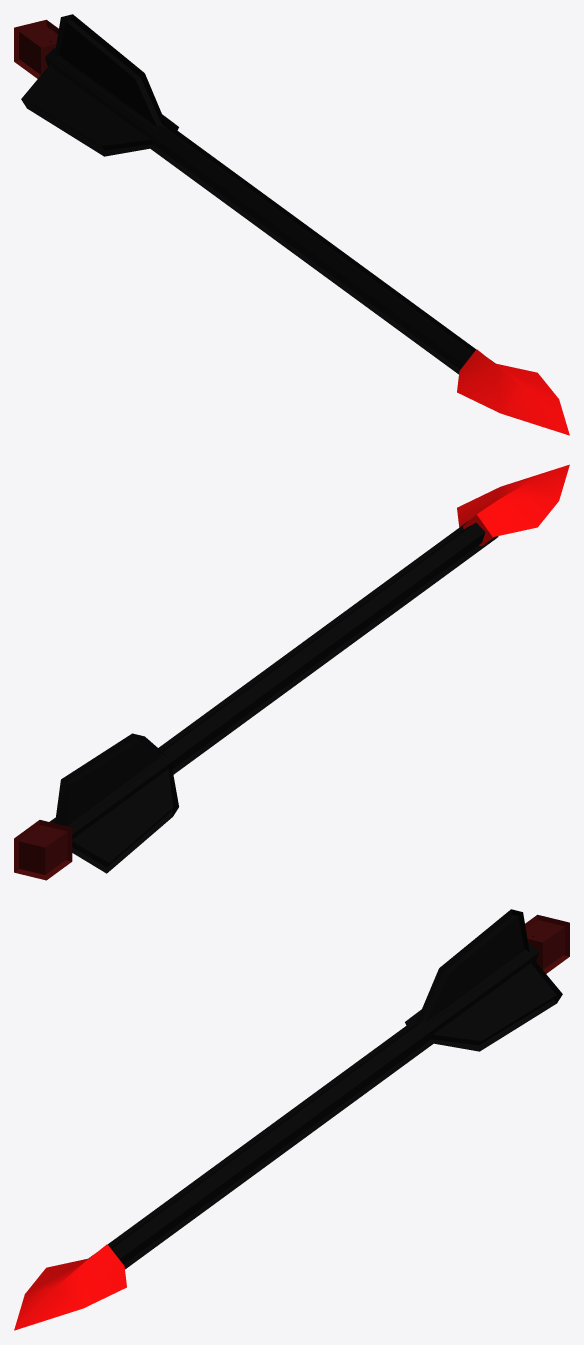
File: SM_Arrow.fbx
The picture shows the model from 3 angles, top to bottom: view 1: azimuth 30°, elevation 25°; view 2: azimuth 150°, elevation 25°; view 3: azimuth 330°, elevation 25°; orthographic projection.
Parts seen in each view (by area): view 1: SM_Arrow; view 2: SM_Arrow; view 3: SM_Arrow.
Part boxes in pixels (x1,y1,x2,y2): SM_Arrow: (14,14,569,435); SM_Arrow: (14,464,569,880); SM_Arrow: (14,909,569,1330).
Size of the model in its own units: 0.0839 by 0.0727 by 0.8554.
